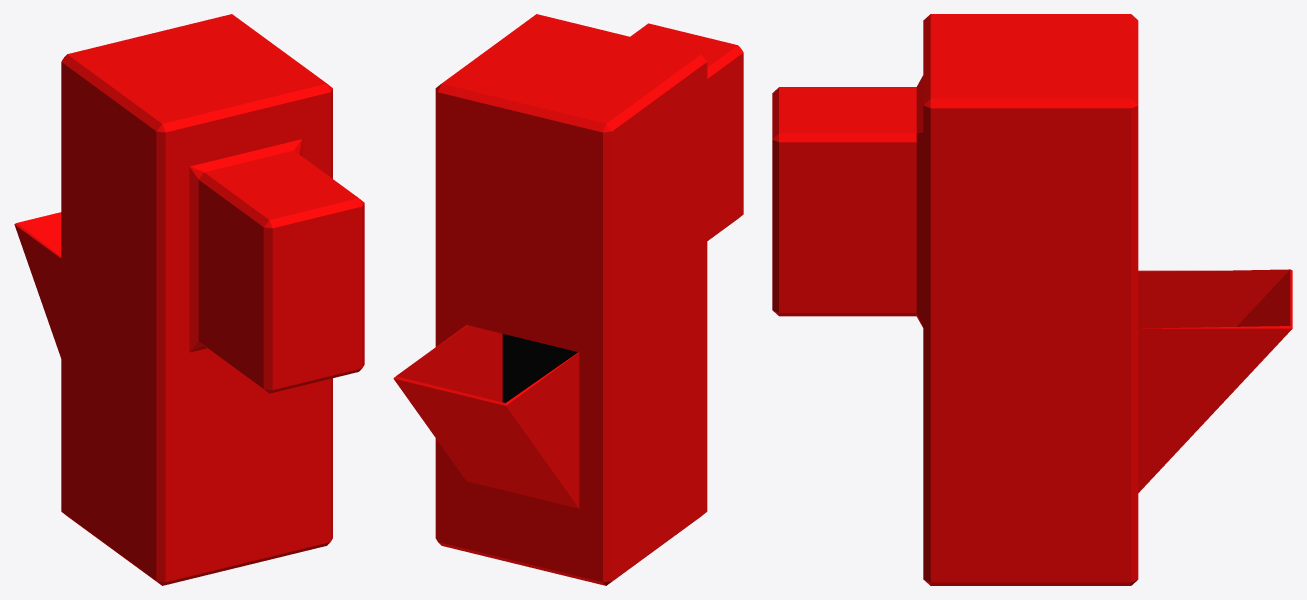
The model's file is moonshot_refiner.fbx.
3 views of the same model, side by side, from view 1: azimuth 30°, elevation 25°; view 2: azimuth 150°, elevation 25°; view 3: azimuth 270°, elevation 25° (orthographic). The views are drawn at different scales.
Parts seen in each view (by area): view 1: Cube; view 2: Cube; view 3: Cube.
Part boxes in pixels (x1,y1,x2,y2): Cube: (14, 14, 364, 585); Cube: (393, 14, 743, 585); Cube: (772, 14, 1292, 585).
Bounding box in the file's own units: 120 × 291 × 300.
